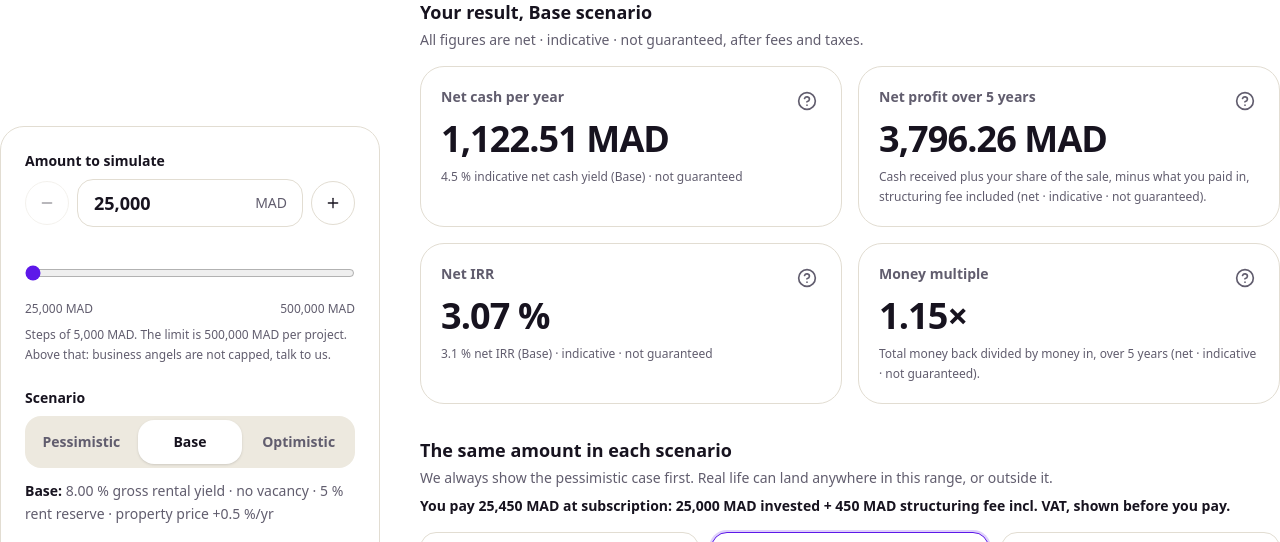
Test case: Simulator › keeps long figures inside their cards at the maximum ticket
Replace the text in the field labelled "Amount to simulate" with "5000000" at (190, 203), box [77,179,303,227]
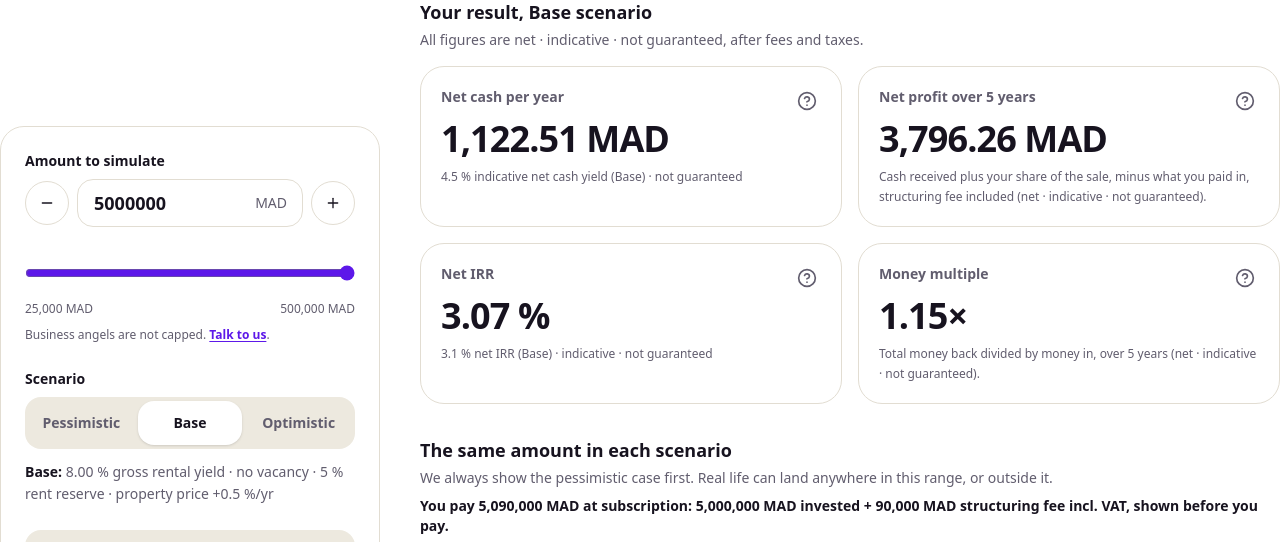
Leave the field labelled "Amount to simulate", box [77,179,303,227]
(page scrolled)
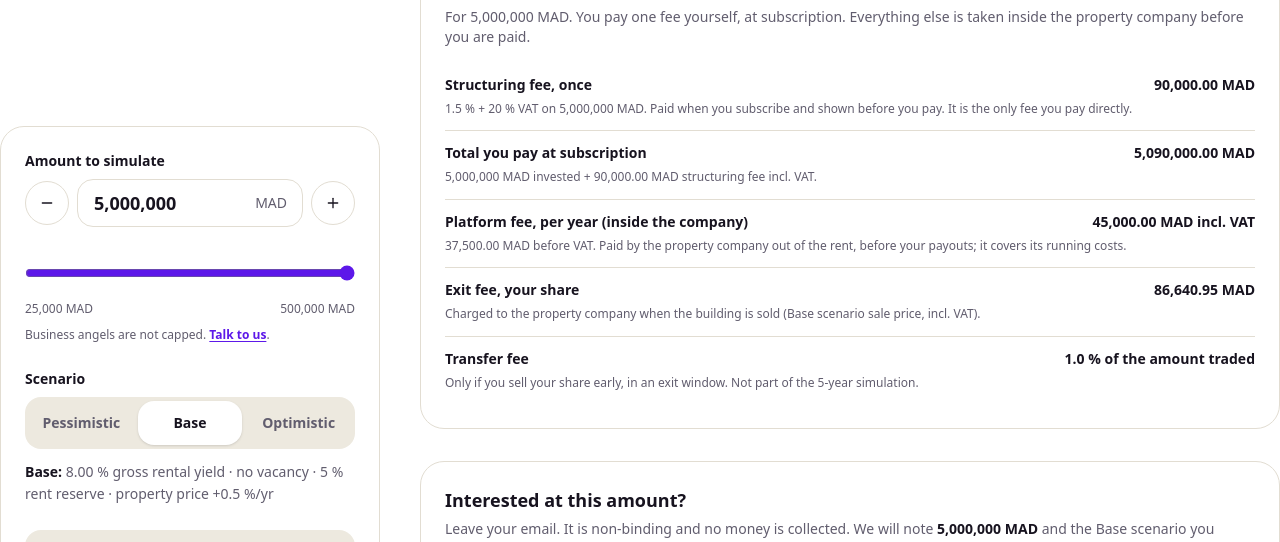
expect the field labelled "Amount to simulate" holds "5,000,000": met, box [77,179,303,227]
